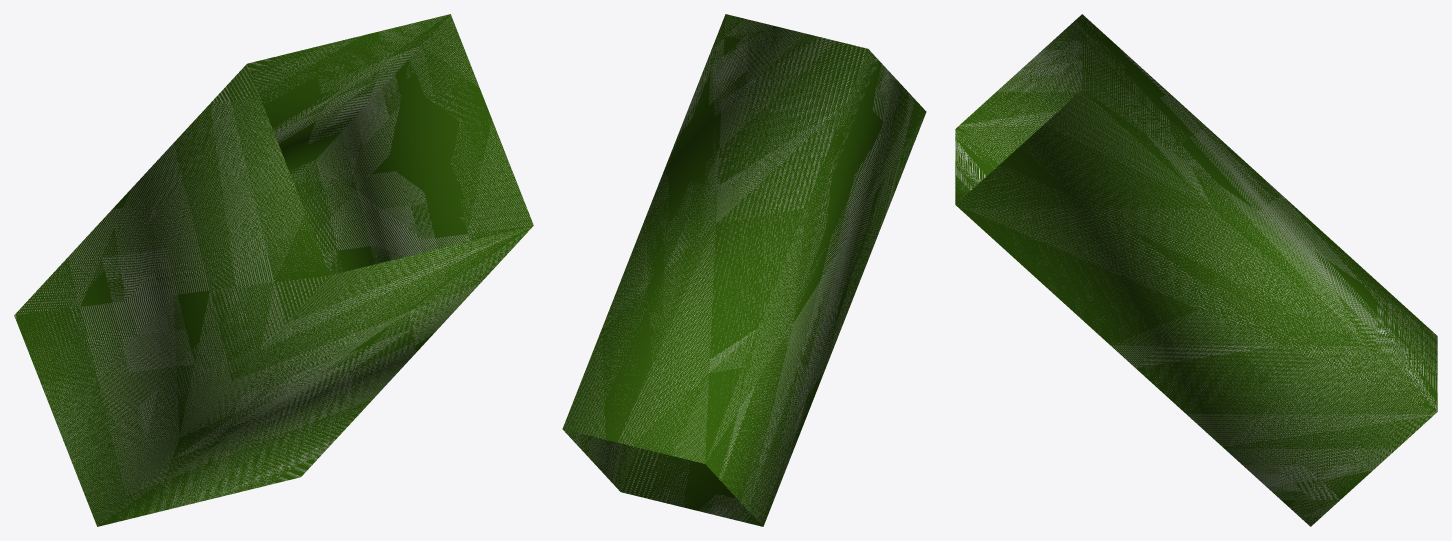
Rendered from original-29.obj.
The picture shows the model from 3 angles, left to right: view 1: azimuth 30°, elevation 25°; view 2: azimuth 150°, elevation 25°; view 3: azimuth 270°, elevation 25°; orthographic projection. The views are drawn at different scales.
Parts seen in each view (by area): view 1: 3dw.547ad62bd93988fff0117851f0671fde/Model/mesh1/mesh1-geometry/; view 2: 3dw.547ad62bd93988fff0117851f0671fde/Model/mesh1/mesh1-geometry/; view 3: 3dw.547ad62bd93988fff0117851f0671fde/Model/mesh1/mesh1-geometry/.
Part boxes in pixels (x1,y1,x2,y2): 3dw.547ad62bd93988fff0117851f0671fde/Model/mesh1/mesh1-geometry/: (14,14,533,526); 3dw.547ad62bd93988fff0117851f0671fde/Model/mesh1/mesh1-geometry/: (562,14,926,526); 3dw.547ad62bd93988fff0117851f0671fde/Model/mesh1/mesh1-geometry/: (955,14,1437,526).
Bounding box in the file's own units: 0.0113 × 0.0304 × 0.0304.
